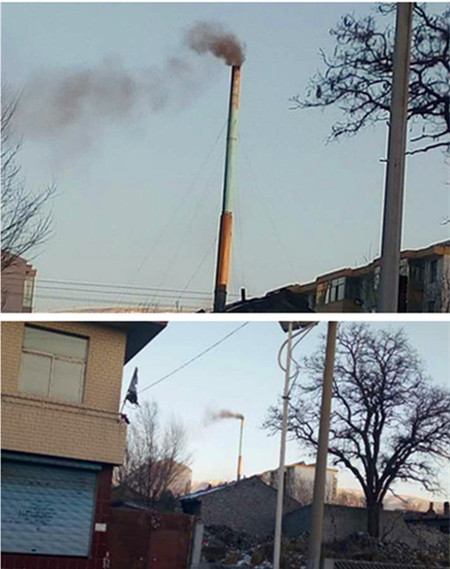dust: (169, 15, 250, 69), (200, 398, 246, 425)
